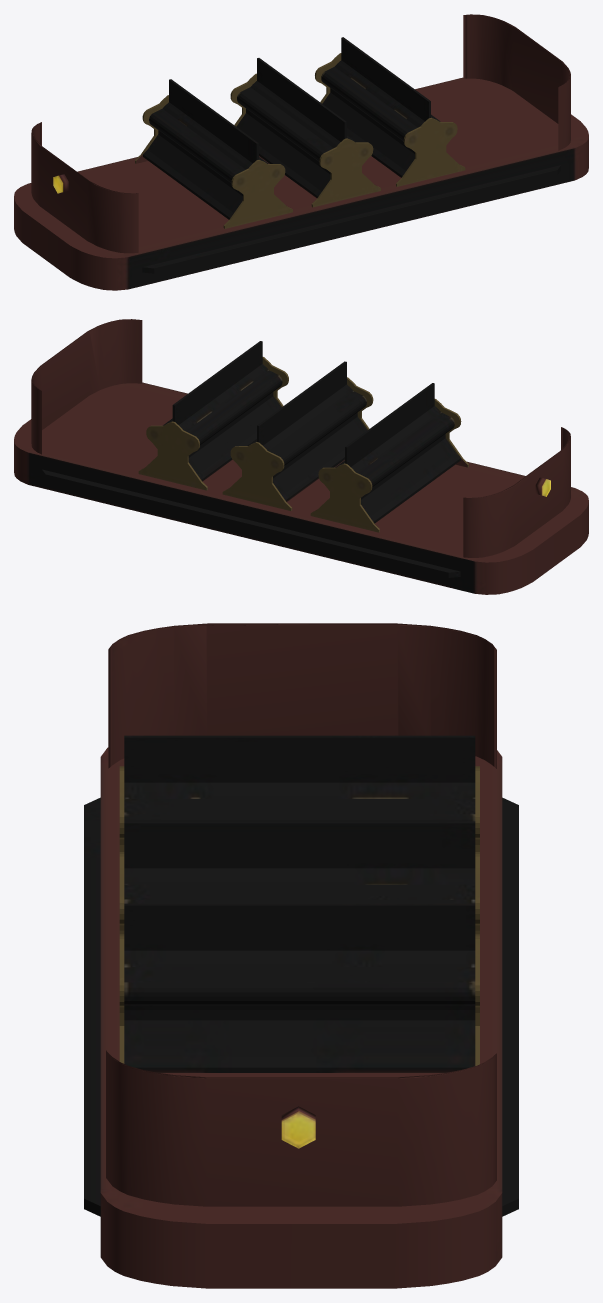
File: trolley.glb
3 views of the same model, one above another, from view 1: azimuth 30°, elevation 25°; view 2: azimuth 150°, elevation 25°; view 3: azimuth 270°, elevation 25° (orthographic). The views are drawn at different scales.
Parts seen in each view (by area): view 1: g; view 2: g; view 3: g.
Boxes of the visible parts, x1,y1,x2,y2 form: g: (14,14,588,290); g: (14,319,588,594); g: (84,623,518,1288).
Size of the model in its own units: 3.06 by 0.6225 by 1.13.
Materials: 1 (1 with a texture image).
